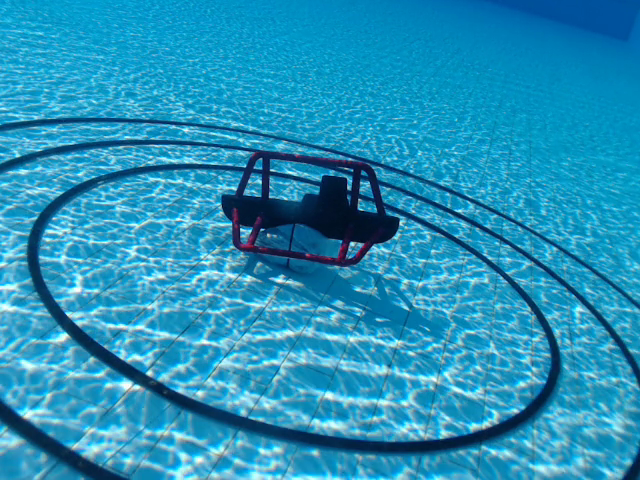submarine: (219, 150, 401, 267)
